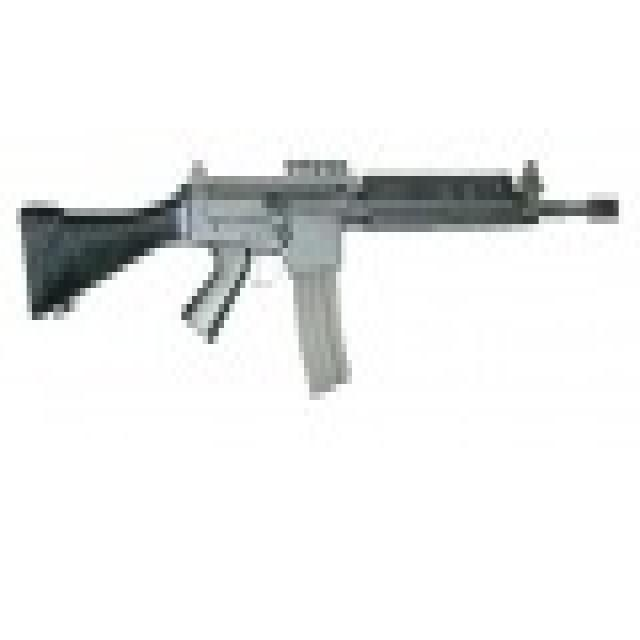Gun: (7, 162, 624, 398)
